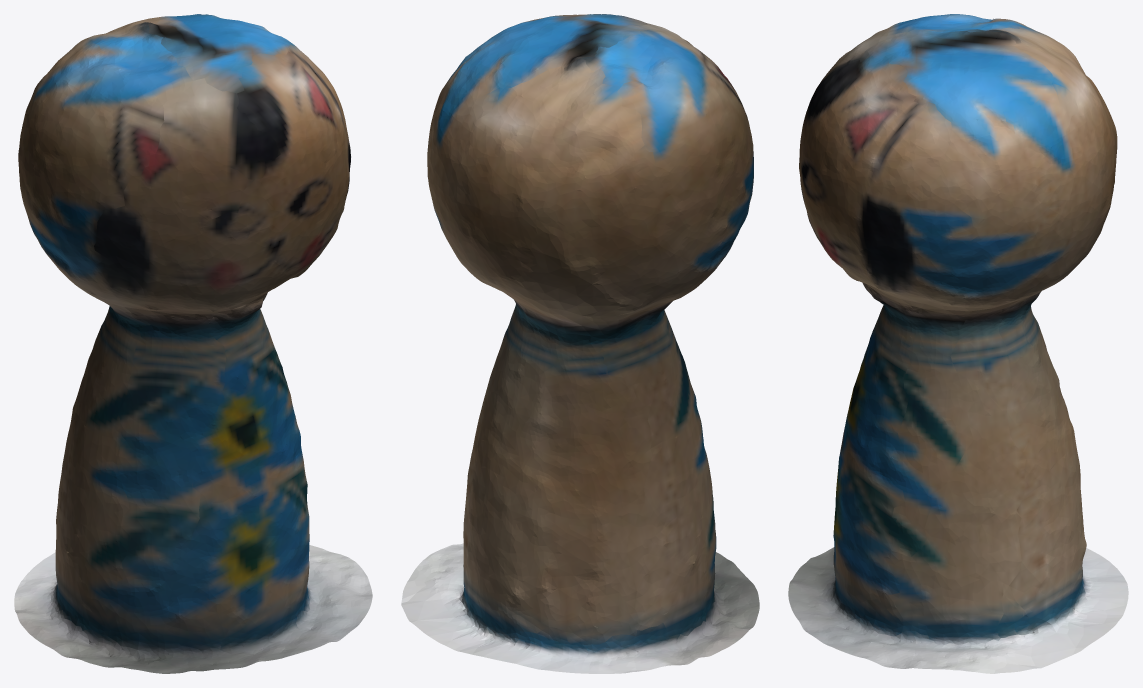
The model's file is kokeshiS001.glb.
3 renders of one model, left to right at view 1: azimuth 30°, elevation 25°; view 2: azimuth 150°, elevation 25°; view 3: azimuth 270°, elevation 25°, orthographic.
Visible parts, largest first — view 1: mesh; view 2: mesh; view 3: mesh.
Boxes of the visible parts, x1,y1,x2,y2 form: mesh: (14,14,372,673); mesh: (401,14,759,673); mesh: (788,14,1128,673).
Size of the model in its own units: 0.0663 by 0.1156 by 0.0634.
Materials: 1 (1 with a texture image).
